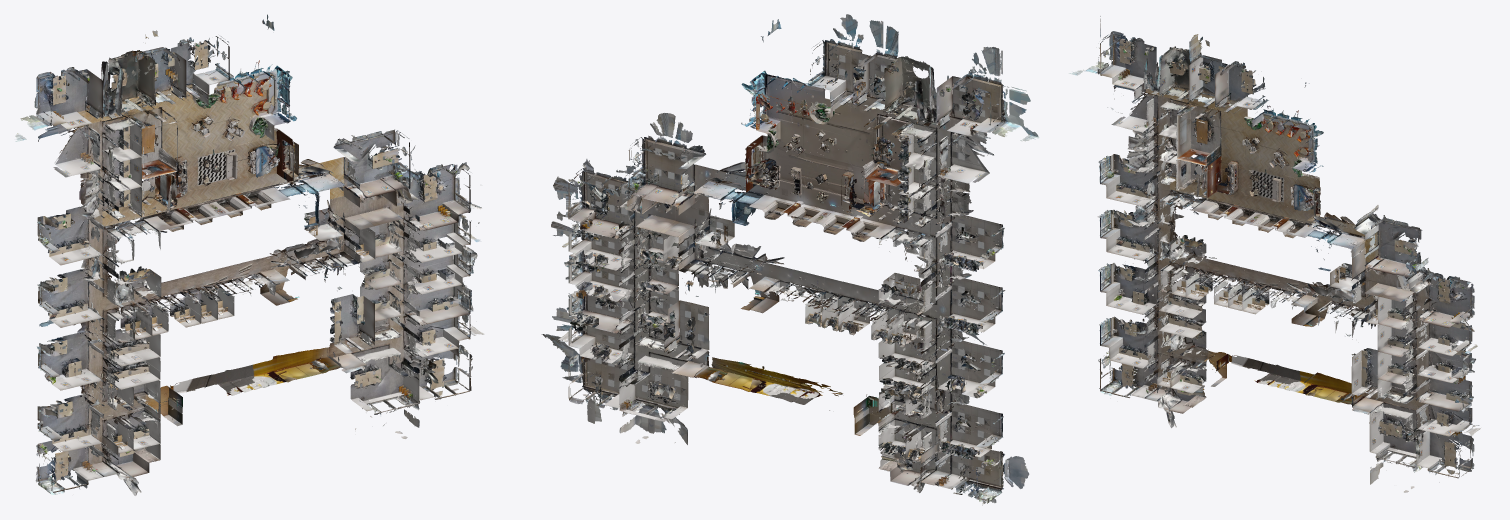
File: office.glb
3 views of the same model, side by side, from view 1: azimuth 30°, elevation 25°; view 2: azimuth 150°, elevation 25°; view 3: azimuth 330°, elevation 25° (orthographic). The views are drawn at different scales.
Parts seen in each view (by area): view 1: chunk008_group000_sub002, chunk171_group000_sub002, chunk003_group000_sub002, chunk019_group000_sub002, chunk083_group000_sub002, chunk024_group000_sub002, chunk068_group000_sub002, chunk010_group000_sub002, chunk021_group000_sub002, chunk005_group000_sub002, chunk069_group000_sub002, chunk059_group000_sub002 (+106 smaller); view 2: chunk171_group000_sub002, chunk011_group000_sub002, chunk043_group000_sub002, chunk047_group000_sub002, chunk002_group000_sub002, chunk035_group000_sub002, chunk064_group000_sub002, chunk052_group000_sub002, chunk048_group000_sub002, chunk018_group000_sub002, chunk036_group000_sub002, chunk054_group000_sub002 (+112 smaller); view 3: chunk008_group000_sub002, chunk171_group000_sub002, chunk003_group000_sub002, chunk019_group000_sub002, chunk068_group000_sub002, chunk005_group000_sub002, chunk024_group000_sub002, chunk010_group000_sub002, chunk013_group000_sub002, chunk055_group000_sub002, chunk059_group000_sub002, chunk021_group000_sub002 (+96 smaller).
Boxes of the visible parts, x1=… form: chunk008_group000_sub002: x1=178, y1=131, x2=254, y2=205; chunk171_group000_sub002: x1=30, y1=27, x2=481, y2=490; chunk003_group000_sub002: x1=190, y1=79, x2=266, y2=151; chunk019_group000_sub002: x1=350, y1=321, x2=416, y2=400; chunk083_group000_sub002: x1=61, y1=111, x2=401, y2=459; chunk024_group000_sub002: x1=64, y1=164, x2=146, y2=258; chunk068_group000_sub002: x1=53, y1=41, x2=455, y2=471; chunk010_group000_sub002: x1=112, y1=47, x2=178, y2=123; chunk021_group000_sub002: x1=38, y1=319, x2=115, y2=377; chunk005_group000_sub002: x1=79, y1=377, x2=146, y2=449; chunk069_group000_sub002: x1=138, y1=50, x2=462, y2=373; chunk059_group000_sub002: x1=37, y1=94, x2=453, y2=479; chunk171_group000_sub002: x1=570, y1=21, x2=1008, y2=495; chunk011_group000_sub002: x1=792, y1=81, x2=858, y2=162; chunk043_group000_sub002: x1=553, y1=176, x2=1029, y2=488; chunk047_group000_sub002: x1=541, y1=14, x2=1002, y2=373; chunk002_group000_sub002: x1=936, y1=395, x2=1002, y2=477; chunk035_group000_sub002: x1=720, y1=170, x2=1000, y2=486; chunk064_group000_sub002: x1=552, y1=46, x2=1030, y2=403; chunk052_group000_sub002: x1=551, y1=56, x2=929, y2=433; chunk048_group000_sub002: x1=687, y1=42, x2=868, y2=444; chunk018_group000_sub002: x1=584, y1=326, x2=651, y2=400; chunk036_group000_sub002: x1=694, y1=155, x2=868, y2=281; chunk054_group000_sub002: x1=856, y1=97, x2=1002, y2=386; chunk008_group000_sub002: x1=1232, y1=145, x2=1300, y2=220; chunk171_group000_sub002: x1=1098, y1=36, x2=1471, y2=474; chunk003_group000_sub002: x1=1246, y1=120, x2=1308, y2=181; chunk019_group000_sub002: x1=1383, y1=389, x2=1439, y2=457; chunk068_group000_sub002: x1=1126, y1=64, x2=1465, y2=432; chunk005_group000_sub002: x1=1150, y1=314, x2=1208, y2=381; chunk024_group000_sub002: x1=1137, y1=138, x2=1206, y2=214; chunk010_group000_sub002: x1=1179, y1=52, x2=1235, y2=121; chunk013_group000_sub002: x1=1391, y1=288, x2=1449, y2=350; chunk055_group000_sub002: x1=1185, y1=49, x2=1474, y2=455; chunk059_group000_sub002: x1=1114, y1=84, x2=1472, y2=380; chunk021_group000_sub002: x1=1114, y1=255, x2=1179, y2=318.
Size of the model in its own units: 46.36 by 42.19 by 4.01.
176 materials, 176 textured.
